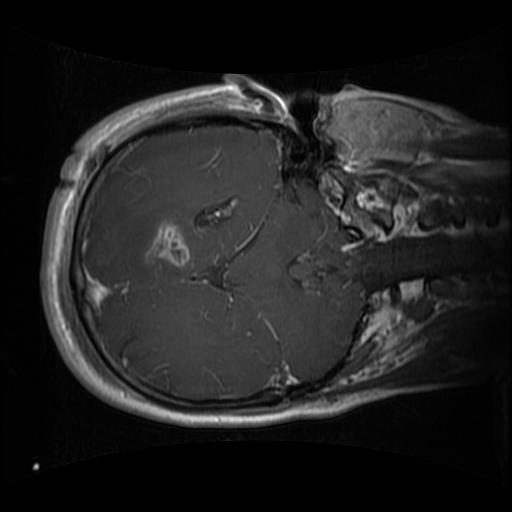glioma: (142, 219, 187, 267)
